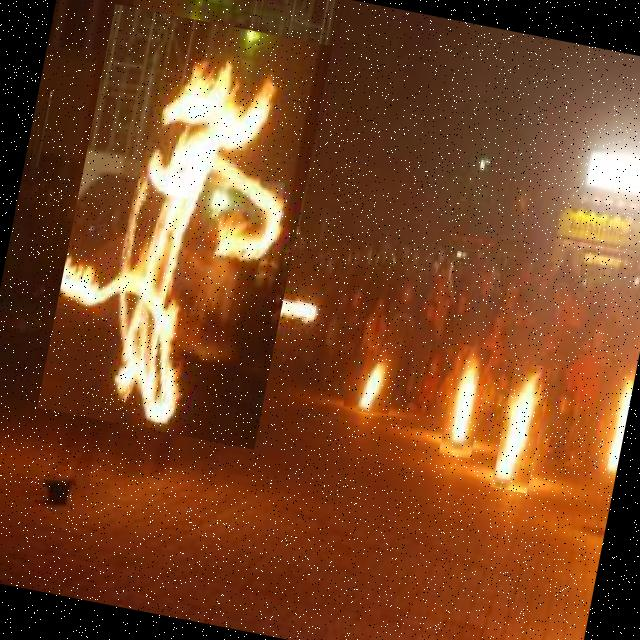fire: (38, 4, 332, 450), (491, 361, 551, 494), (438, 344, 492, 459), (342, 348, 400, 417)
